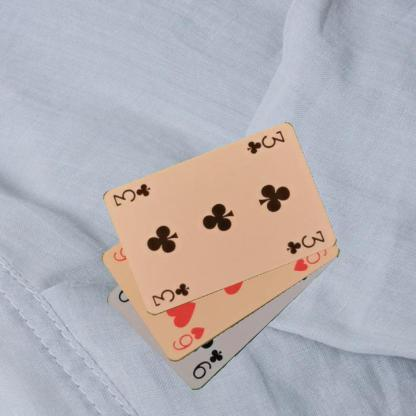3c: (149, 280, 191, 308), (244, 128, 286, 156)
6h: (170, 324, 206, 353)
9c: (190, 346, 224, 380)
